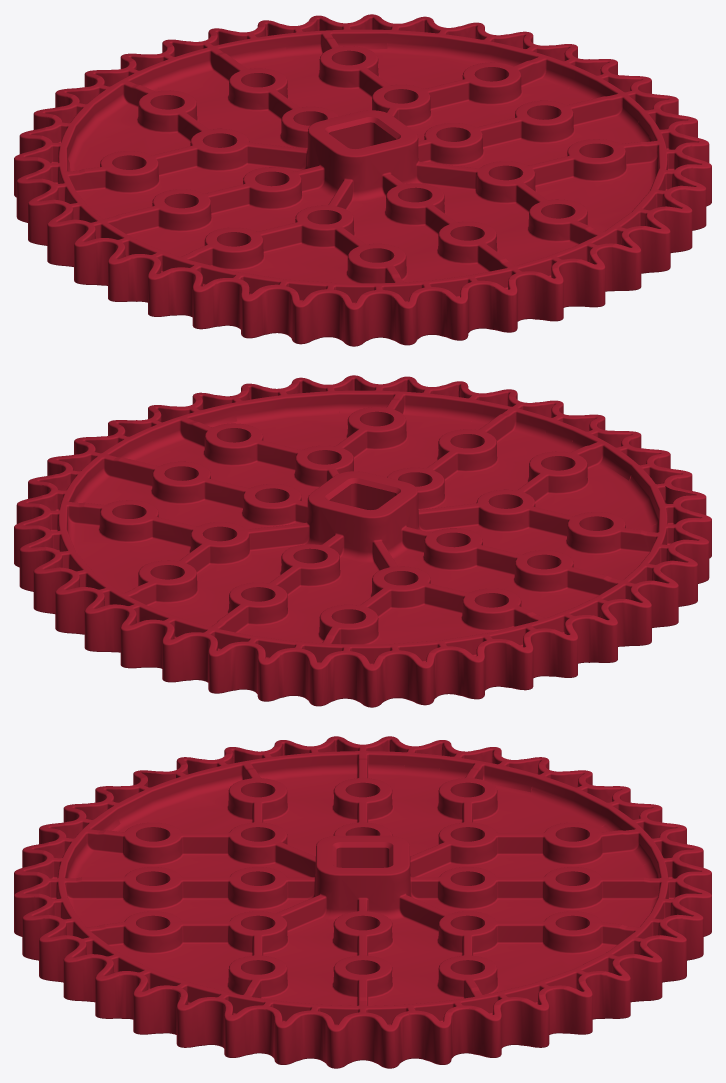
File: 40T Sprocket, 6P (276-8331).glb
3 views of the same model, one above another, from view 1: azimuth 30°, elevation 25°; view 2: azimuth 150°, elevation 25°; view 3: azimuth 270°, elevation 25° (orthographic).
Visible parts, largest first — view 1: 276-8030-005 Rev2; view 2: 276-8030-005 Rev2; view 3: 276-8030-005 Rev2.
Part boxes in pixels (x1=…): 276-8030-005 Rev2: x1=14, y1=14, x2=711, y2=346; 276-8030-005 Rev2: x1=14, y1=375, x2=711, y2=707; 276-8030-005 Rev2: x1=14, y1=736, x2=711, y2=1068.
Size of the model in its own units: 0.0845 by 0.0127 by 0.0845.
